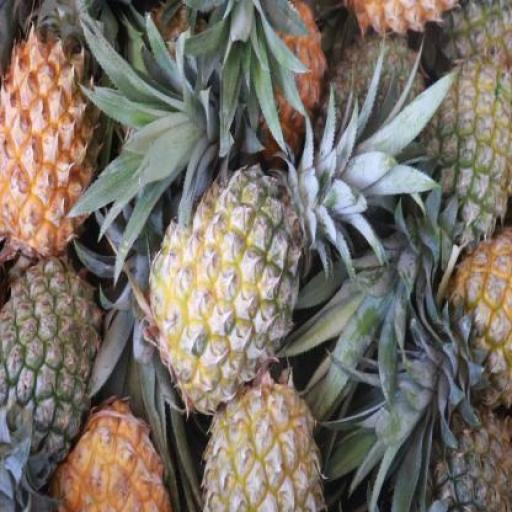------------------------------: (148, 162, 299, 410), (422, 49, 511, 245), (198, 374, 320, 512)
Pineapple - v8 v1: (0, 32, 107, 274), (50, 392, 172, 511)
